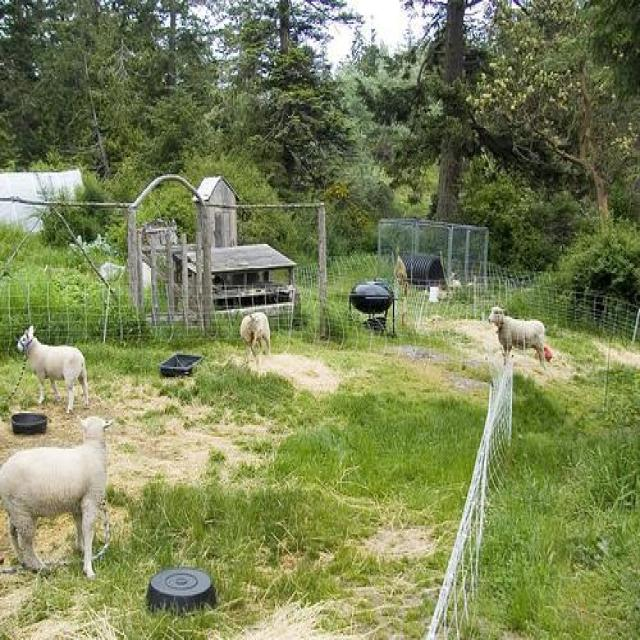Sheep: (0, 415, 115, 580), (15, 322, 90, 414), (489, 306, 547, 368)
